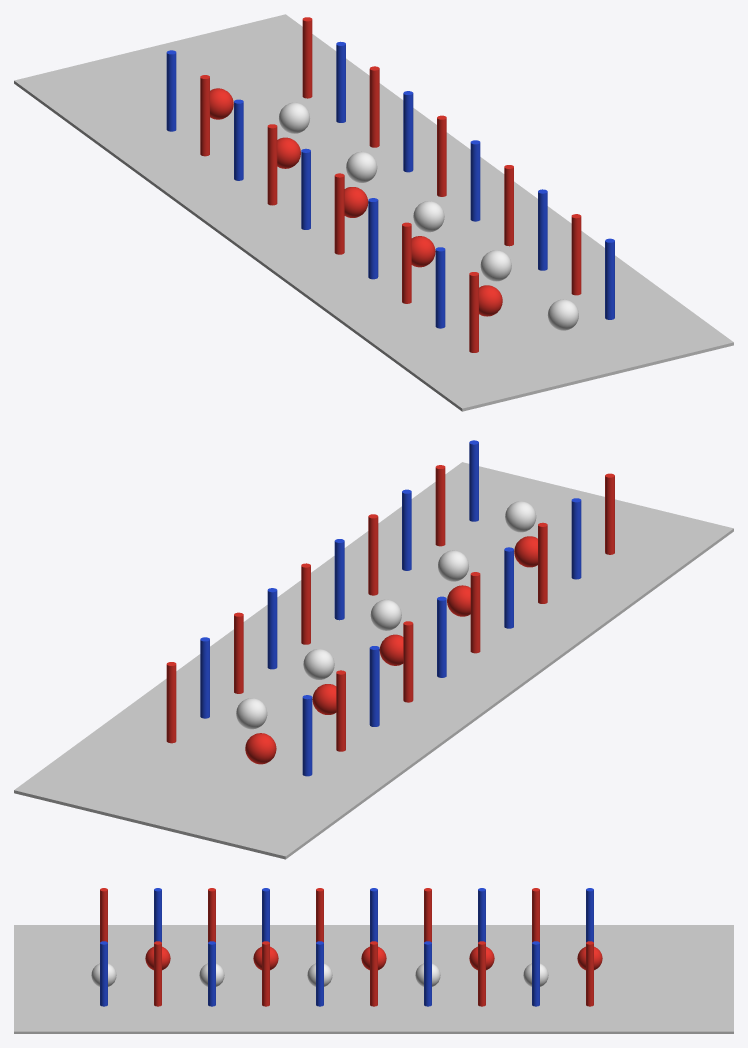
The model's file is dof.gltf.
3 renders of one model, top to bottom at view 1: azimuth 30°, elevation 25°; view 2: azimuth 150°, elevation 25°; view 3: azimuth 270°, elevation 25°, orthographic. The views are drawn at different scales.
Parts seen in each view (by area): view 1: Exhibit; view 2: Exhibit; view 3: Exhibit.
Boxes of the visible parts, x1,y1,x2,y2 form: Exhibit: [14, 14, 733, 411]; Exhibit: [14, 440, 733, 859]; Exhibit: [14, 888, 733, 1033].
Size of the model in its own units: 14 by 3.95 by 40.
